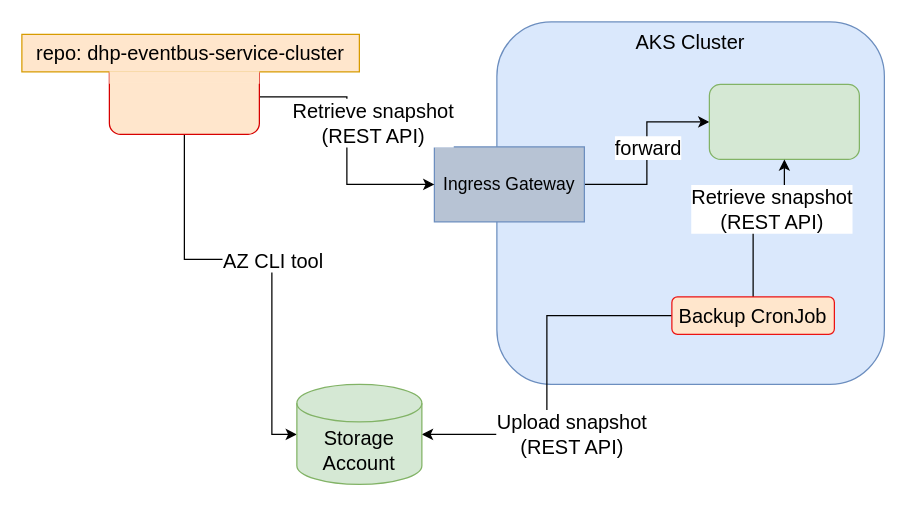
Some shapes in this 906 by 506 pixel diagram are drawn without their labels. Each missing label, with the centre of its shape:
"Hashicorp Vault" goes at [783,121].
"Pipeline" goes at [183,96].
